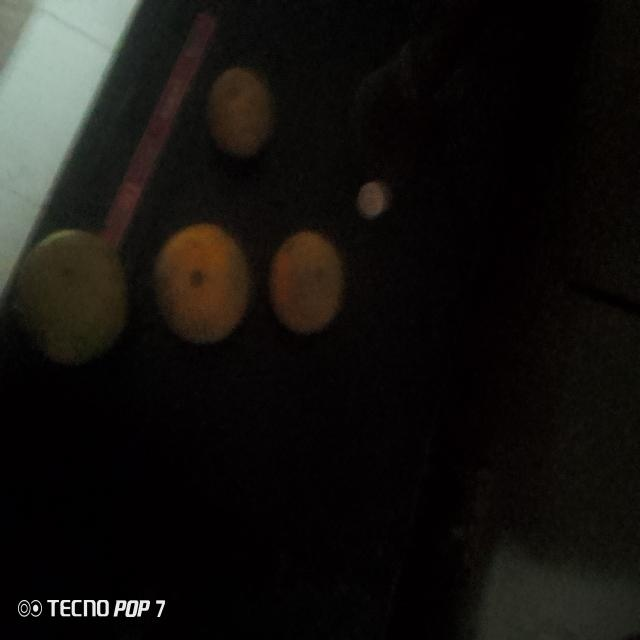agrume: (21, 231, 123, 365), (157, 222, 245, 339), (270, 229, 341, 331), (209, 67, 271, 150)
